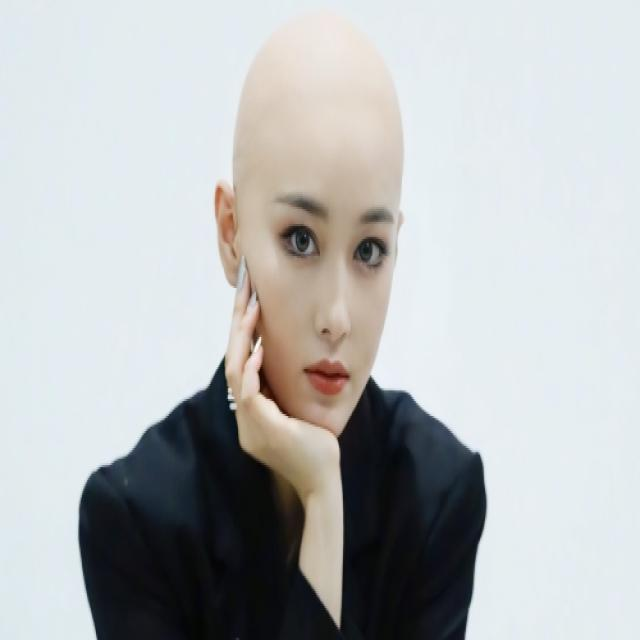Nonhelmet: (208, 6, 412, 460)
